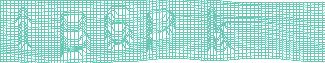6: (103, 4, 137, 53)
B: (59, 10, 94, 61)
P: (144, 6, 176, 56)
k: (206, 6, 237, 56)
t: (13, 6, 35, 52)
